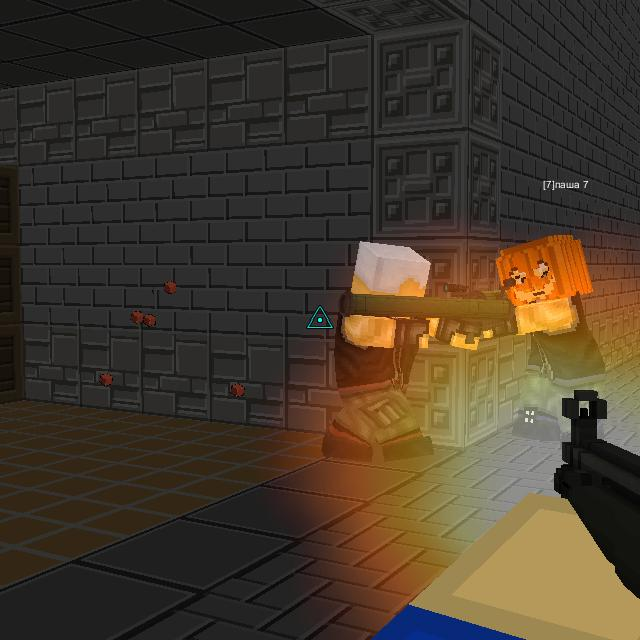enemy: (326, 232, 476, 470)
